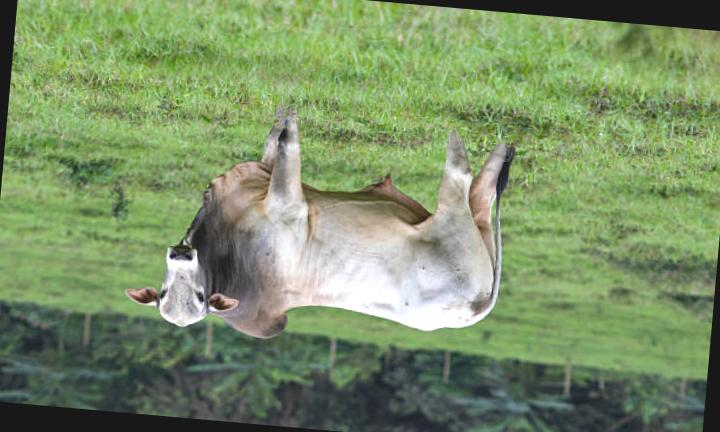Brahman: (125, 112, 512, 338)
